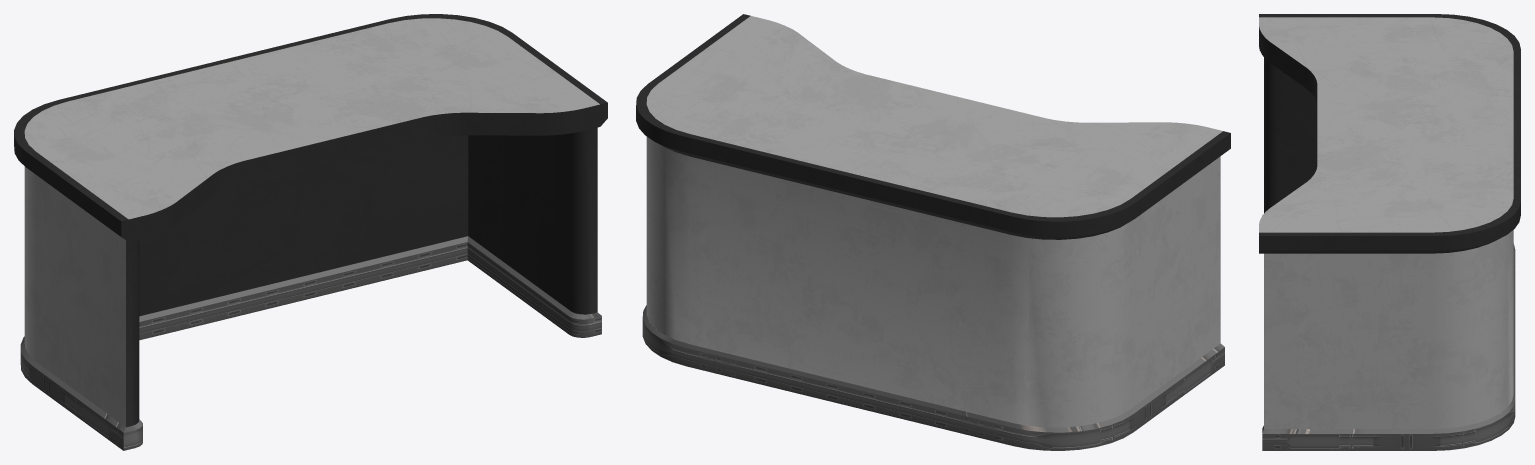
Rendered from Prop_Desk_Small.gltf.
3 renders of one model, left to right at view 1: azimuth 30°, elevation 25°; view 2: azimuth 150°, elevation 25°; view 3: azimuth 270°, elevation 25°, orthographic. The views are drawn at different scales.
Parts seen in each view (by area): view 1: Prop_Desk_Small; view 2: Prop_Desk_Small; view 3: Prop_Desk_Small.
Part boxes in pixels (<box>): Prop_Desk_Small: <box>14,14,607,450</box>; Prop_Desk_Small: <box>636,14,1230,450</box>; Prop_Desk_Small: <box>1259,14,1520,450</box>.
Size of the model in its own units: 2.06 by 0.9396 by 1.03.
Materials: 3 (3 with a texture image).
